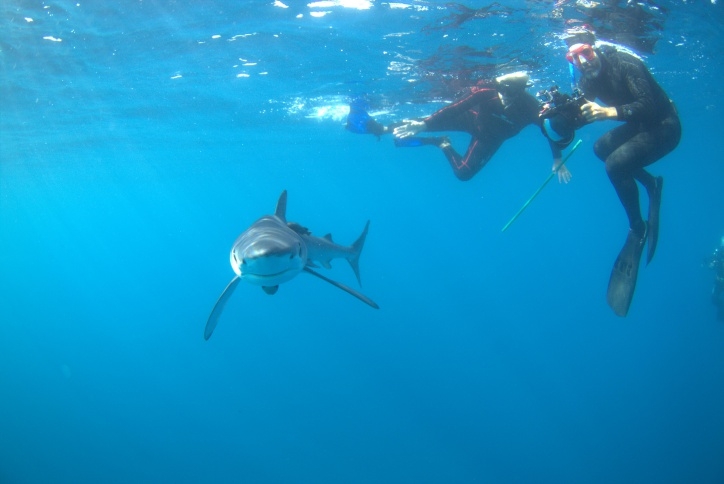Azul: (178, 175, 396, 347)
